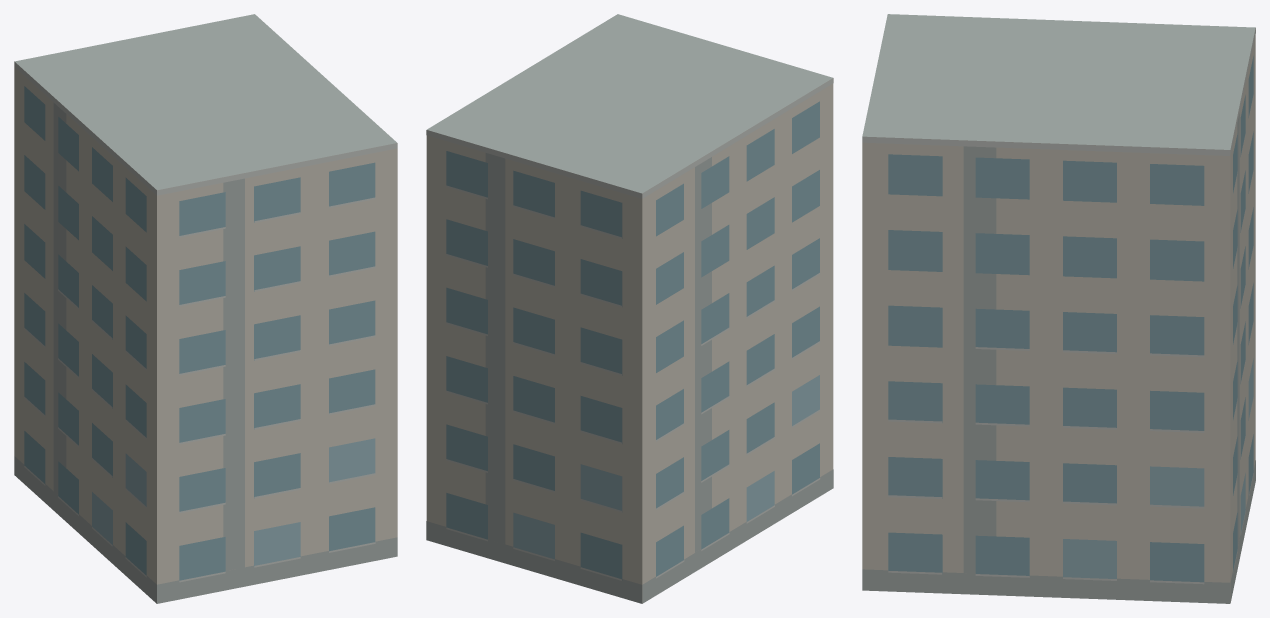
The model's file is survey-upis-32821859.glb.
3 views of the same model, side by side, from view 1: azimuth 30°, elevation 25°; view 2: azimuth 150°, elevation 25°; view 3: azimuth 270°, elevation 25° (orthographic). The views are drawn at different scales.
Visible parts, largest first — view 1: survey-upis-32821859.tmp; view 2: survey-upis-32821859.tmp; view 3: survey-upis-32821859.tmp.
Part boxes in pixels (bbox=[...]): survey-upis-32821859.tmp: bbox=[14, 14, 397, 603]; survey-upis-32821859.tmp: bbox=[426, 14, 833, 603]; survey-upis-32821859.tmp: bbox=[862, 14, 1255, 603].
Bounding box in the file's own units: 11.77 × 18.3 × 14.39.
